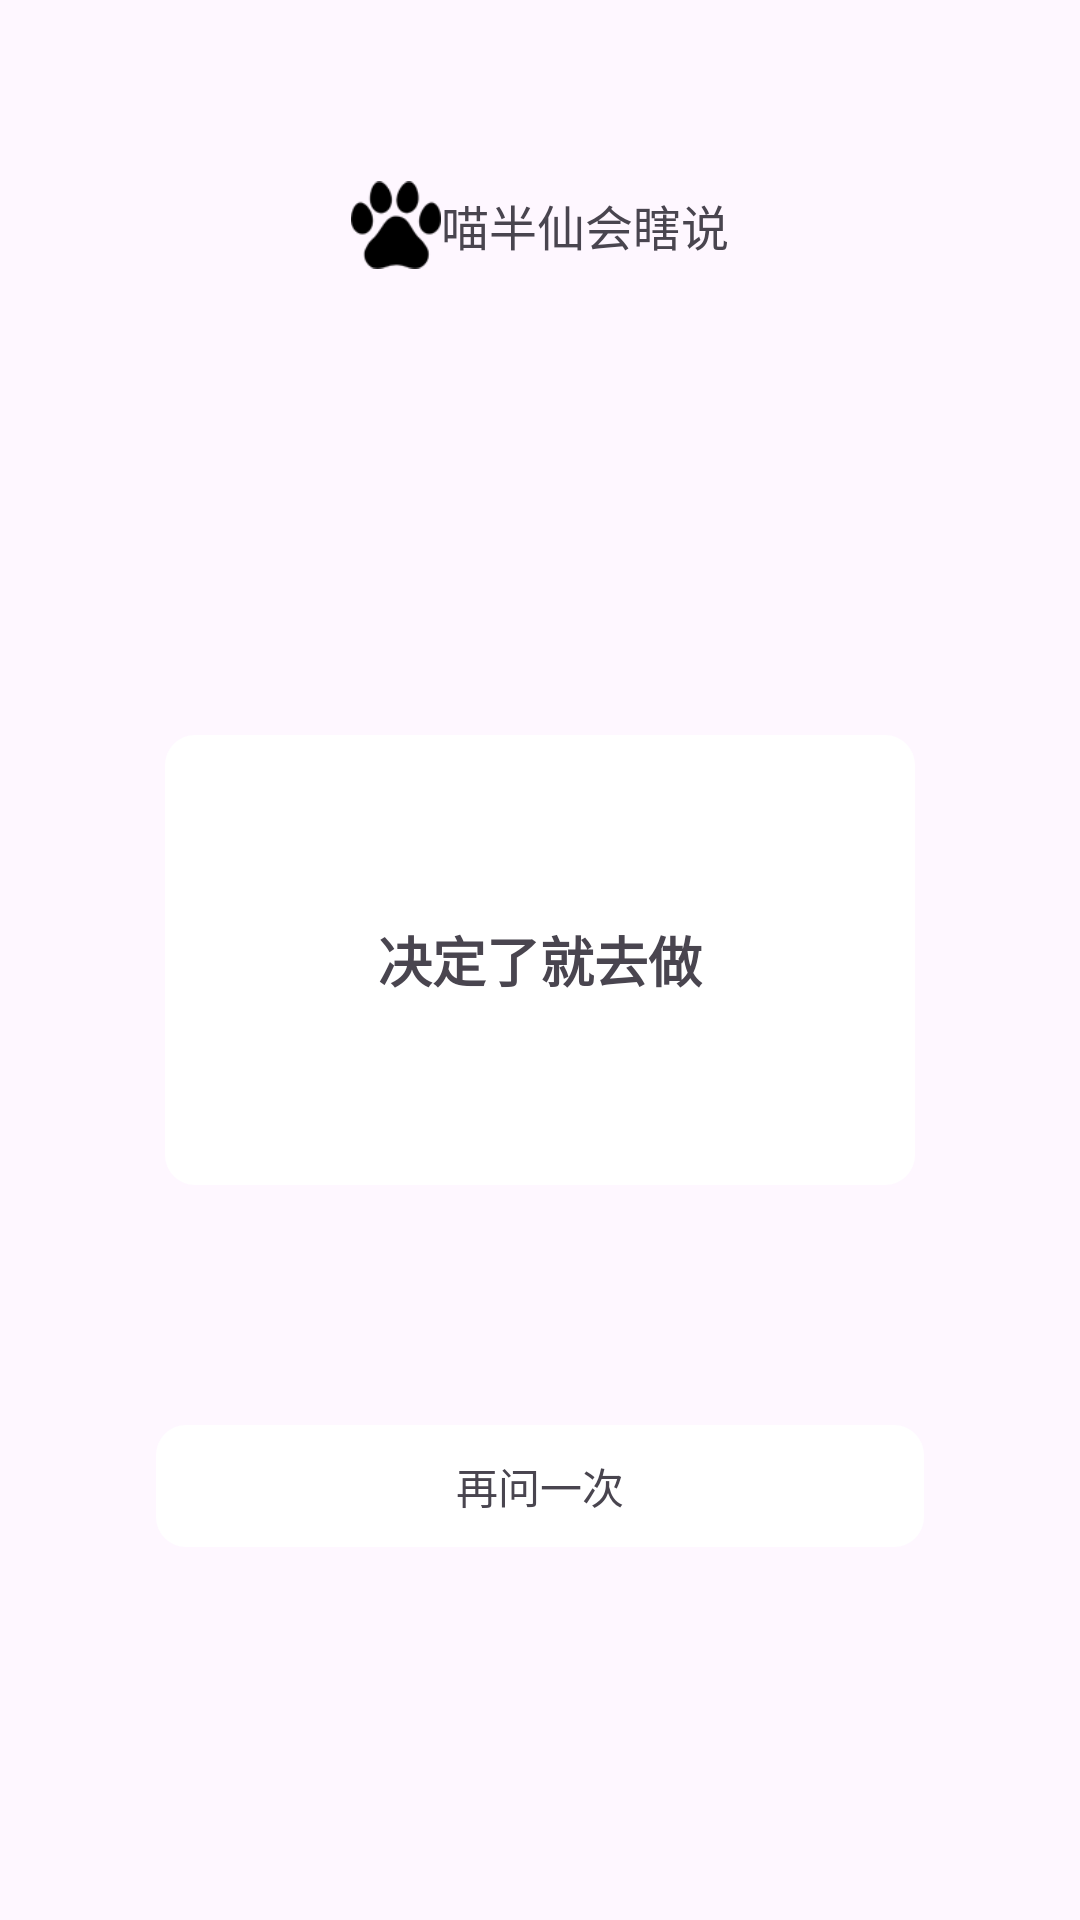

Named icons in this screenshot (1080px×1920px) and their centers, [x,y]:
gouzhua: [396,225]
